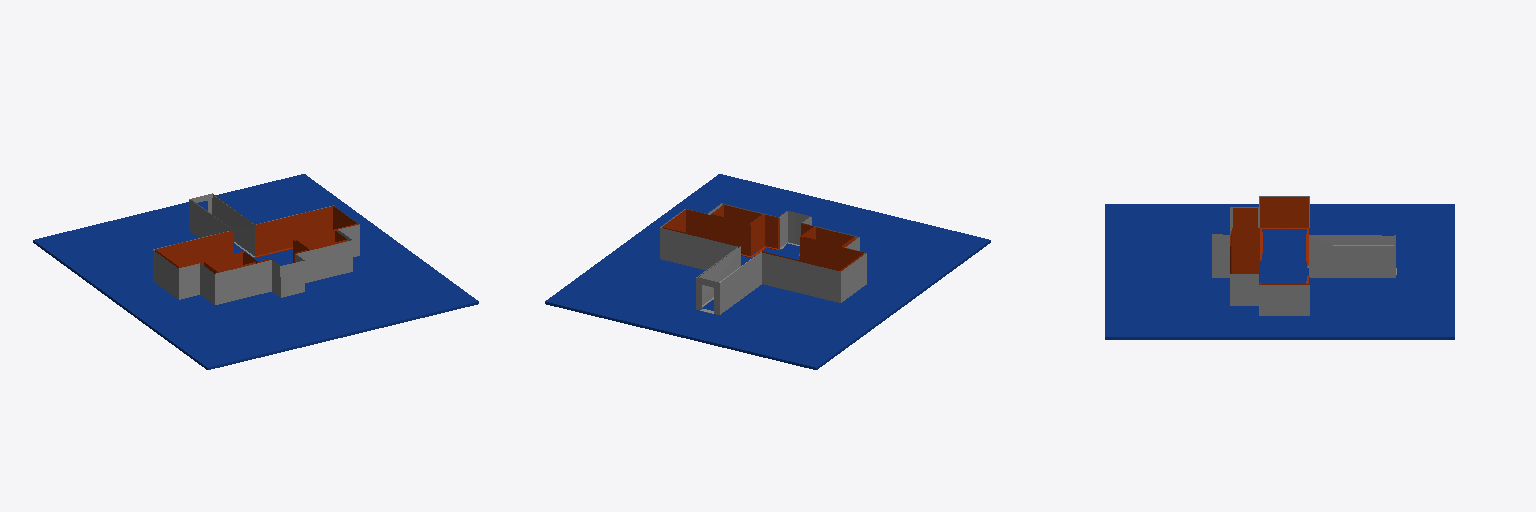
File: MuseoProyecto.obj
3 renders of one model, left to right at view 1: azimuth 30°, elevation 25°; view 2: azimuth 150°, elevation 25°; view 3: azimuth 270°, elevation 25°, orthographic.
Parts seen in each view (by area): view 1: Box001, Plane001; view 2: Box001, Plane001; view 3: Box001, Plane001.
Boxes of the visible parts, <box> form: Box001: <box>33,174,478,369</box>; Plane001: <box>153,193,359,304</box>; Box001: <box>545,174,990,369</box>; Plane001: <box>660,203,866,314</box>; Box001: <box>1105,204,1454,339</box>; Plane001: <box>1212,196,1396,315</box>.
Bounding box in the file's own units: 1986 × 243 × 2213.